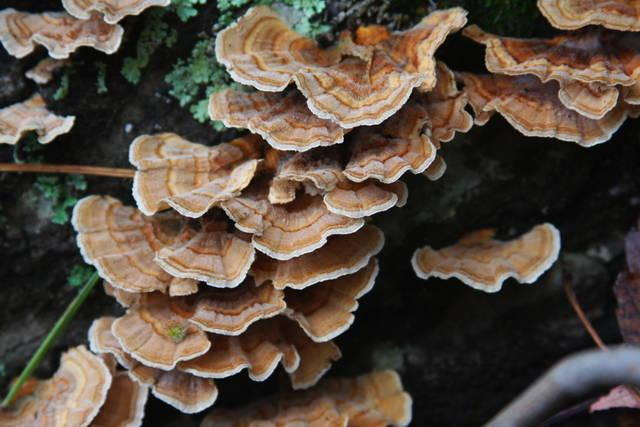poisonous_mushroom: (1, 1, 638, 425), (410, 220, 562, 294)
